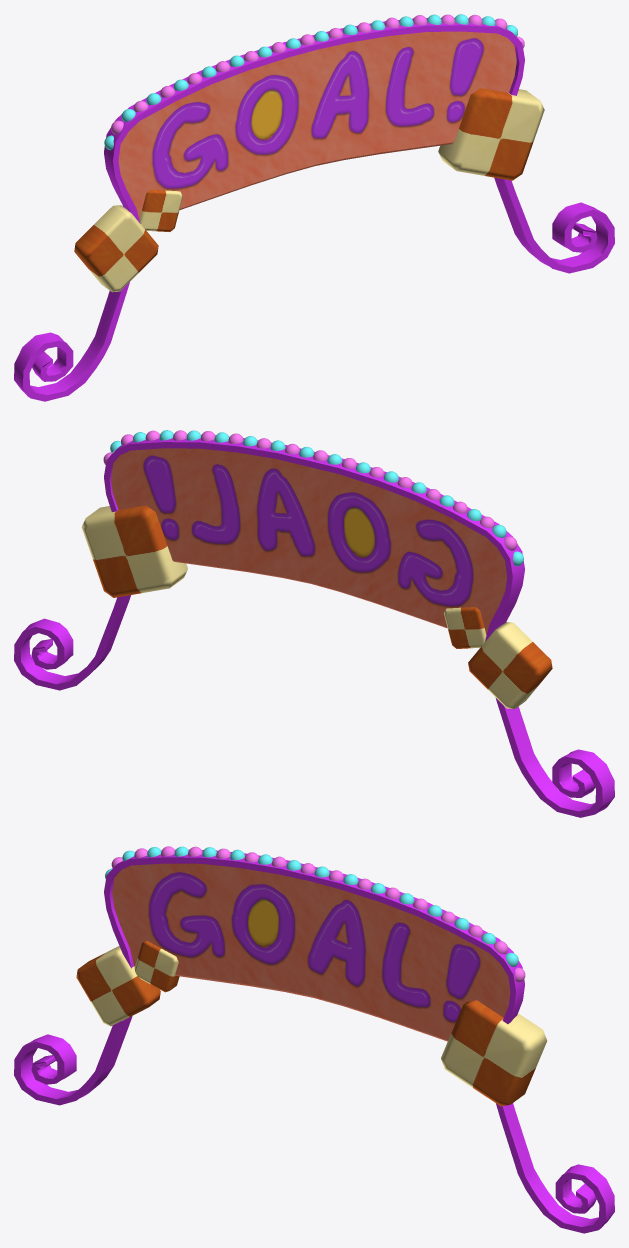
The model's file is BgMD_archi_01_2.fbx.
The picture shows the model from 3 angles, top to bottom: view 1: azimuth 30°, elevation 25°; view 2: azimuth 150°, elevation 25°; view 3: azimuth 330°, elevation 25°; orthographic projection.
Parts seen in each view (by area): view 1: BgMD_archi_01_02; view 2: BgMD_archi_01_02; view 3: BgMD_archi_01_02.
Part boxes in pixels (box(x1,y1,x2,y2)): BgMD_archi_01_02: box(14, 14, 614, 401); BgMD_archi_01_02: box(14, 430, 614, 817); BgMD_archi_01_02: box(14, 846, 614, 1233).
Bounding box in the file's own units: 992 × 477 × 55.33.
